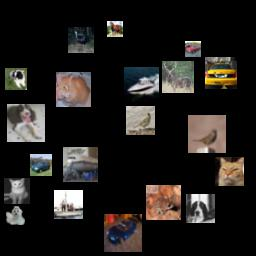airplane: (63, 147, 98, 182)
automobile: (104, 214, 142, 252), (205, 57, 237, 89), (30, 154, 52, 176), (185, 41, 201, 57)
bird: (188, 115, 226, 153), (126, 106, 155, 135), (68, 27, 94, 53)
cat: (56, 72, 91, 107), (215, 157, 244, 186), (4, 178, 30, 204)
deer: (162, 61, 194, 93)
dog: (7, 104, 45, 142), (186, 194, 215, 223), (5, 68, 27, 90), (6, 206, 25, 225)
frog: (146, 185, 181, 220)
ship: (124, 67, 159, 102), (54, 190, 83, 219)
